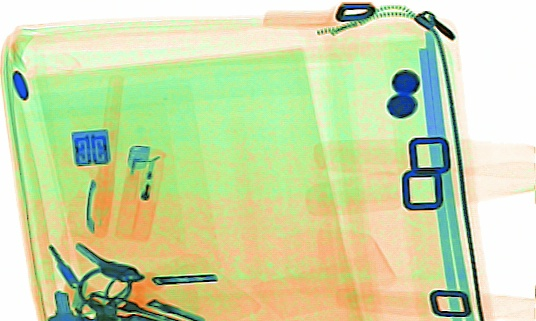lighter: (114, 142, 167, 242)
